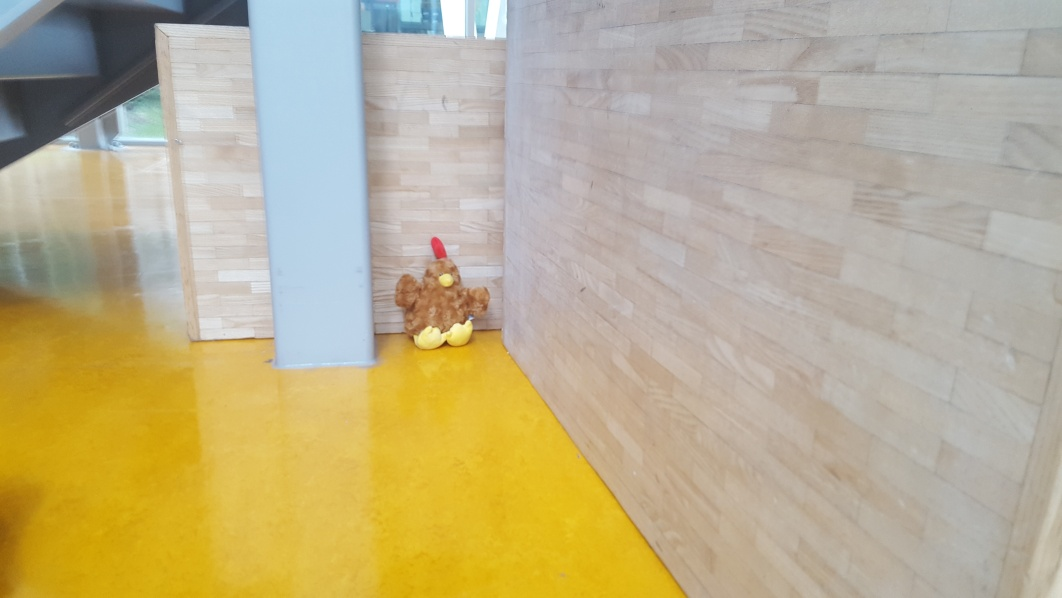chicken: (395, 236, 491, 348)
